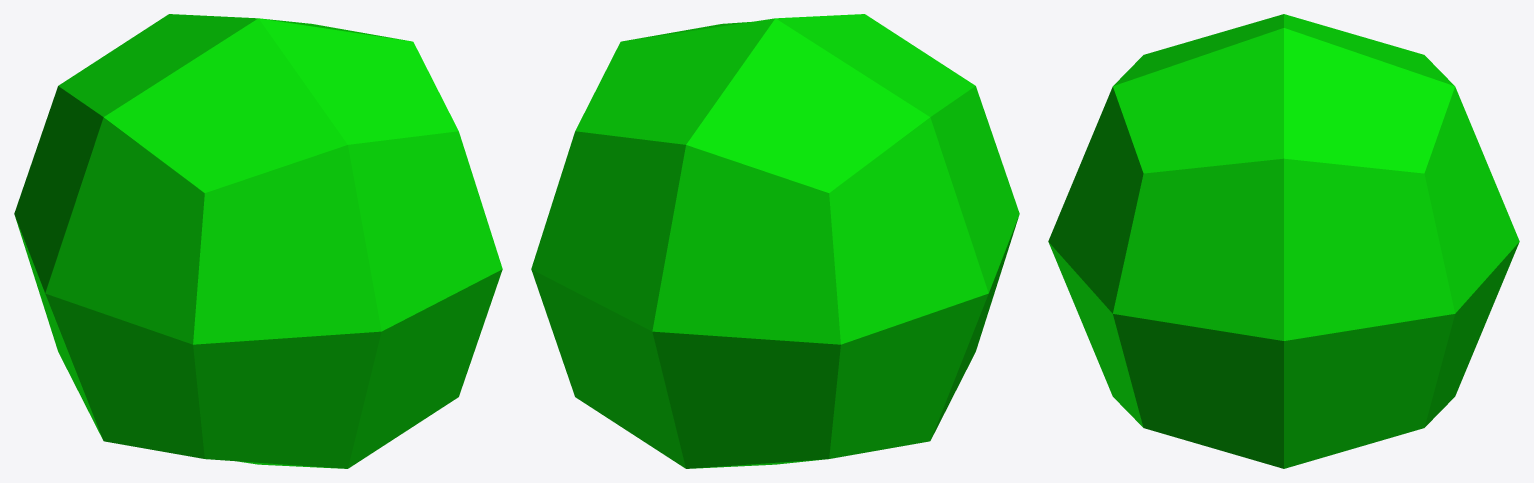
File: green_particle.glb
The picture shows the model from 3 angles, left to right: view 1: azimuth 30°, elevation 25°; view 2: azimuth 150°, elevation 25°; view 3: azimuth 270°, elevation 25°; orthographic projection. The views are drawn at different scales.
Visible parts, largest first — view 1: Particle; view 2: Particle; view 3: Particle.
Boxes of the visible parts, <box> form: Particle: <box>14,14,502,468</box>; Particle: <box>531,14,1019,468</box>; Particle: <box>1048,14,1519,468</box>.
Bounding box in the file's own units: 0.4198 × 0.4198 × 0.4198.
